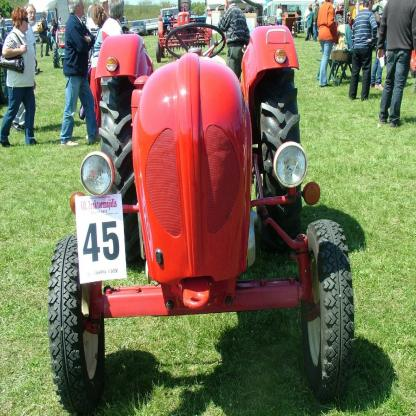Car: (163, 11, 206, 31), (128, 23, 150, 38), (5, 26, 14, 40), (6, 20, 14, 25)
